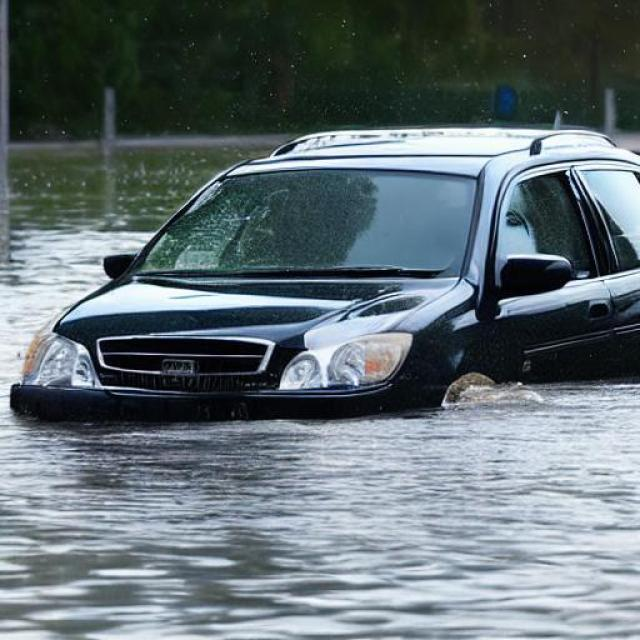water: (1, 136, 638, 636)
